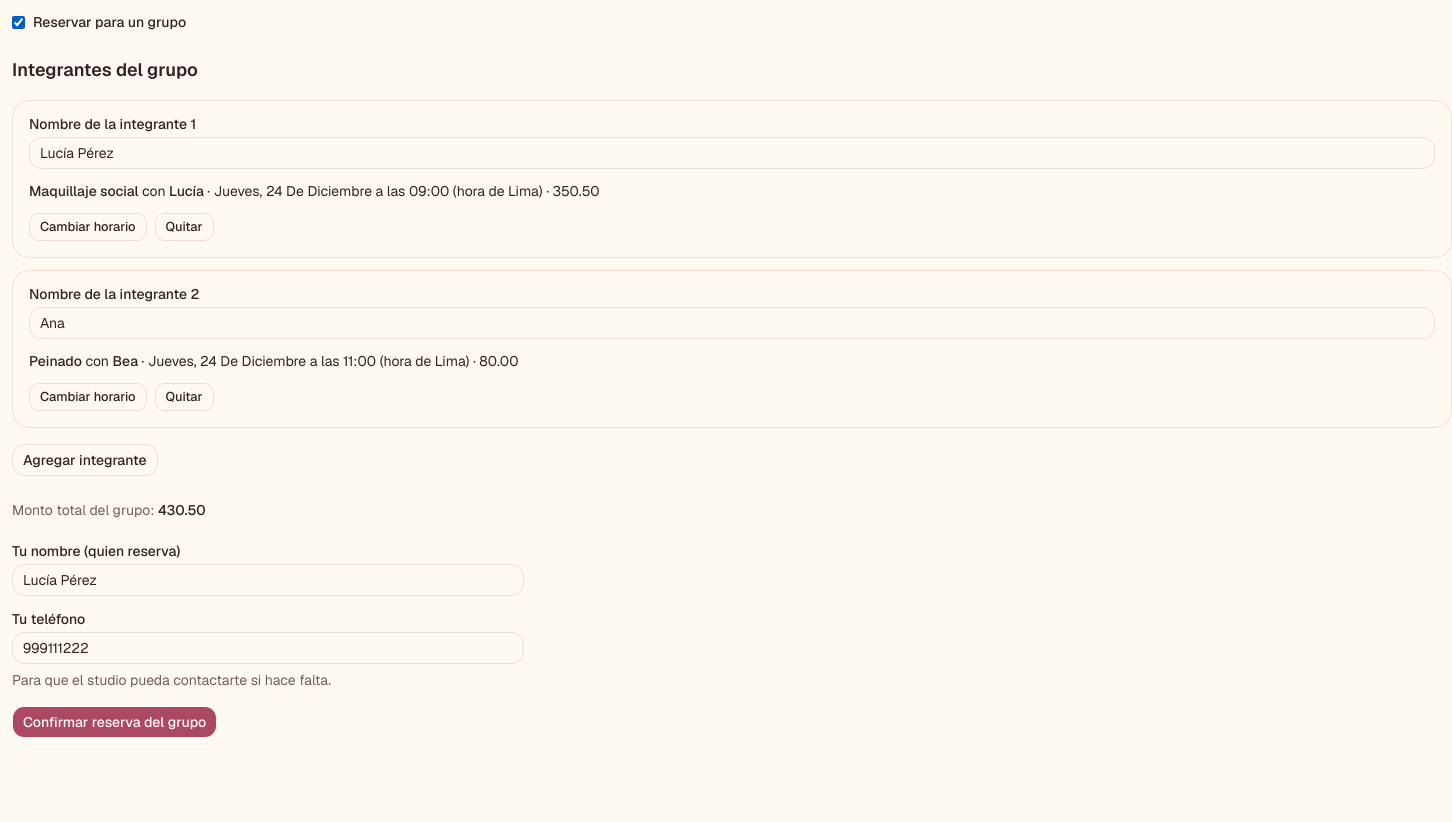
it: choque parcial › un solapamiento marca a ambas integrantes con el nombre de la otra
The width and height of the screenshot is (1452, 822).
Click the button "Confirmar reserva del grupo".
click(115, 722)  # box [12, 706, 217, 738]
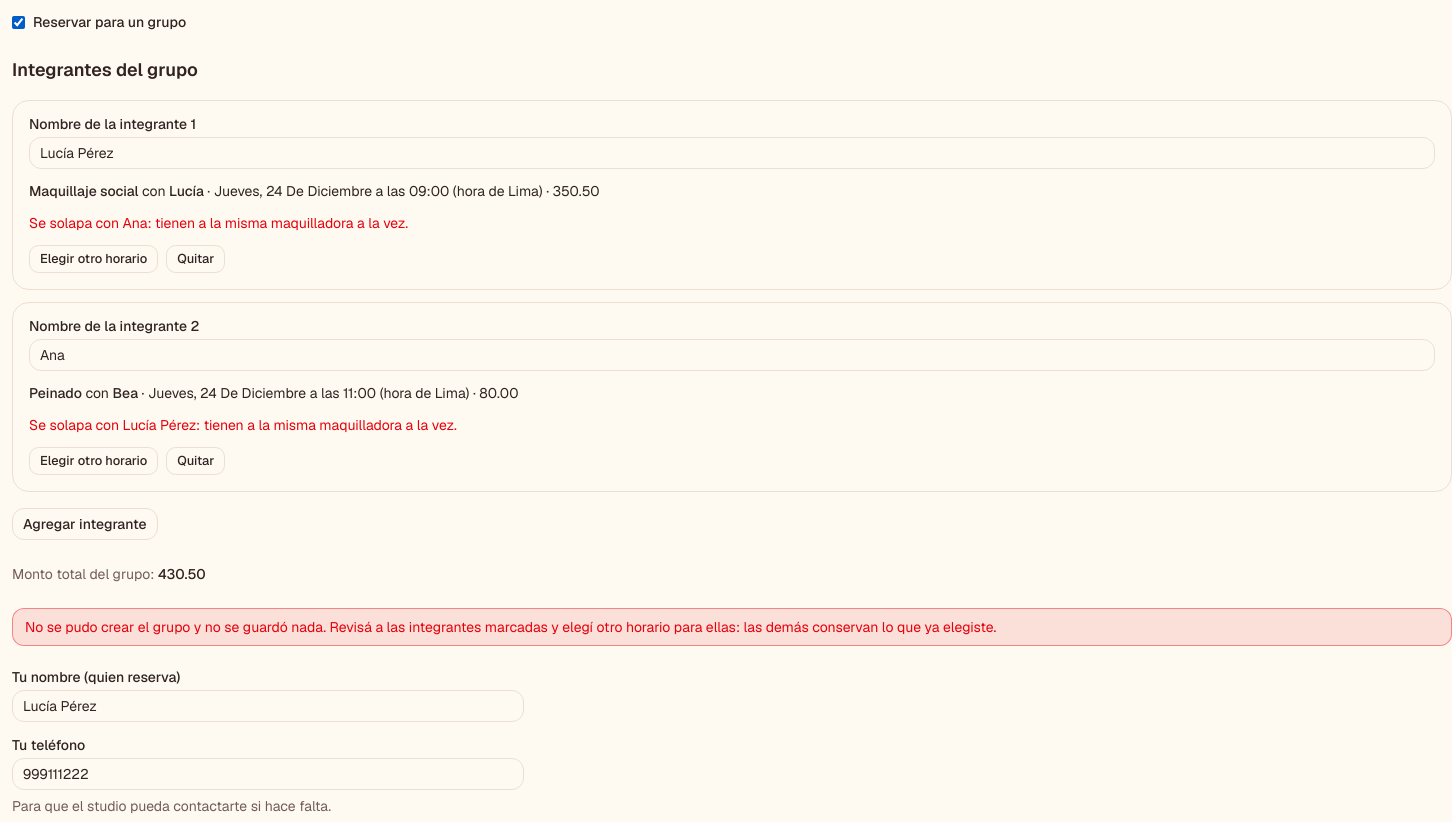
Expected: the list item "Se solapa con Ana: tienen a la misma maquilladora a la vez." is shown, [29, 214, 408, 232]
Expected: the list item "Se solapa con Lucía Pérez" is shown, [29, 416, 457, 434]
